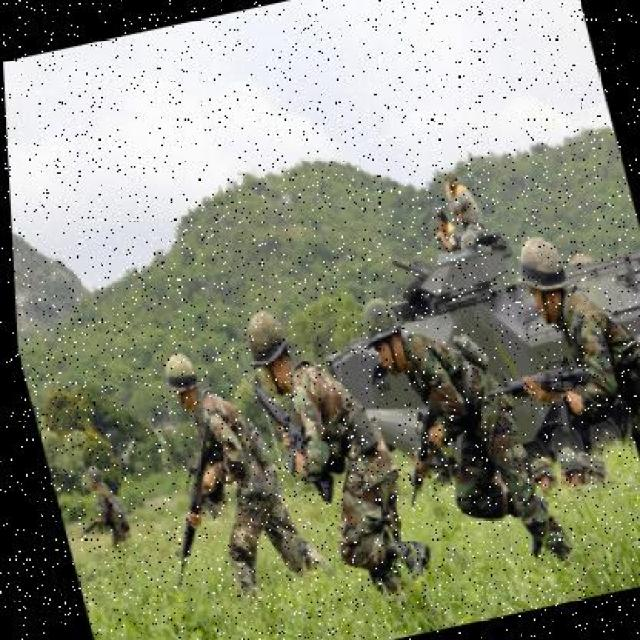MIL_Pax: (210, 271, 402, 595), (346, 268, 542, 572), (501, 206, 640, 543), (125, 366, 306, 620), (408, 156, 498, 276), (76, 461, 141, 556)
